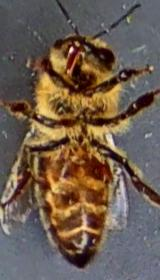varroa_mite: (96, 150, 118, 192)
